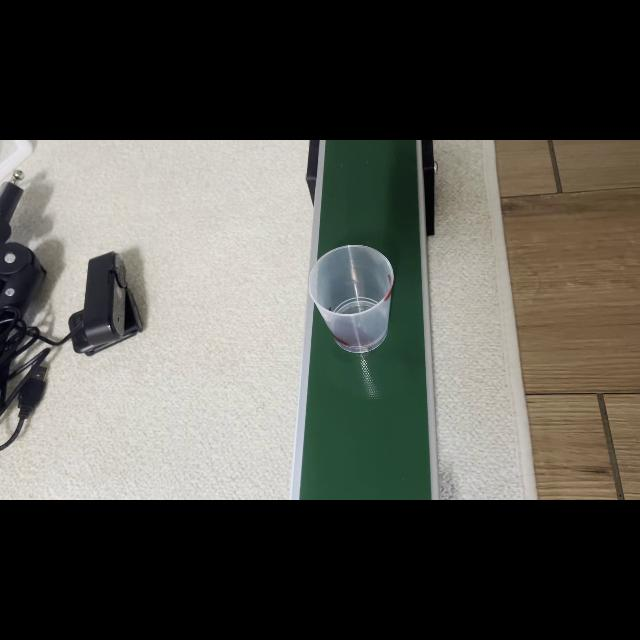dirty: (308, 244, 394, 354)
